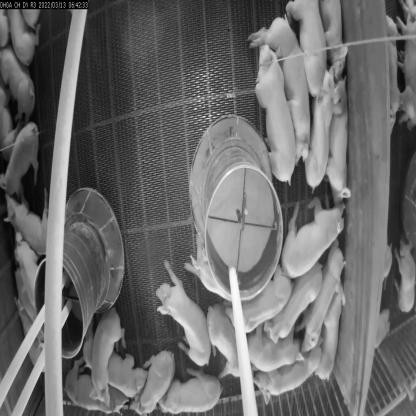Pig: (142, 254, 213, 367), (0, 164, 63, 283), (248, 47, 297, 178), (262, 26, 314, 147), (225, 294, 302, 372), (304, 225, 348, 353), (288, 0, 337, 108), (246, 350, 326, 410), (280, 192, 339, 272), (312, 281, 354, 390), (0, 111, 47, 201), (85, 303, 124, 411), (127, 336, 177, 416), (264, 264, 318, 335), (203, 307, 250, 386), (304, 59, 331, 190), (66, 350, 119, 415), (0, 50, 41, 130), (229, 264, 288, 319), (160, 370, 225, 415), (99, 342, 144, 406), (330, 73, 351, 199), (324, 0, 352, 72)
